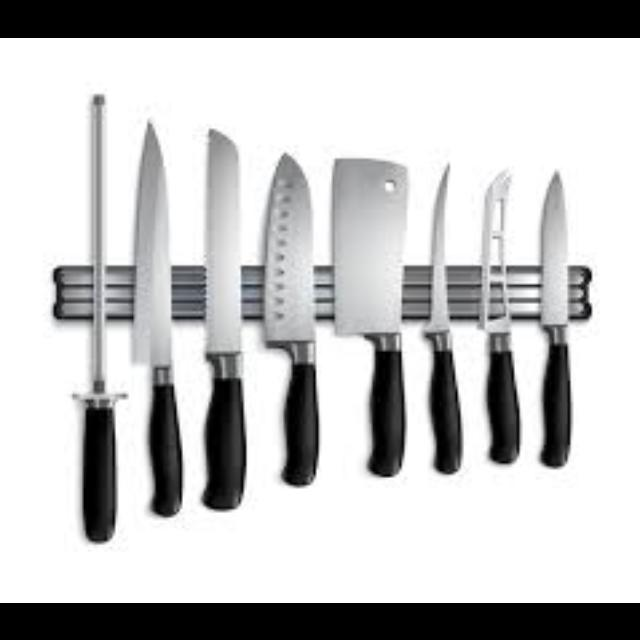knife: (329, 155, 406, 473), (132, 117, 182, 513), (260, 150, 318, 484), (202, 126, 246, 508), (479, 166, 519, 460), (424, 160, 461, 470), (538, 168, 570, 466)
